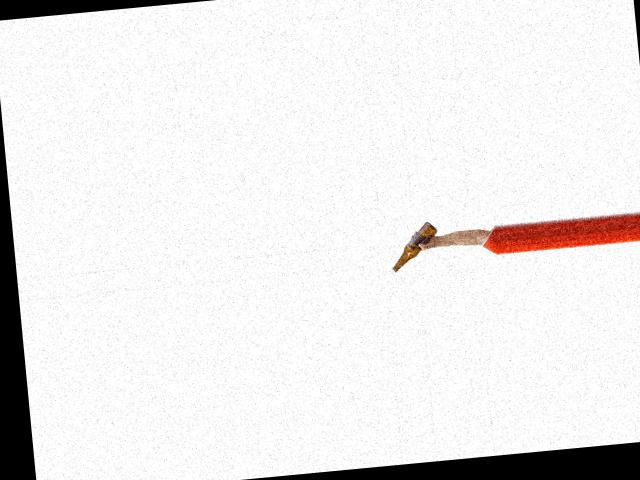beer: (388, 220, 440, 271)
